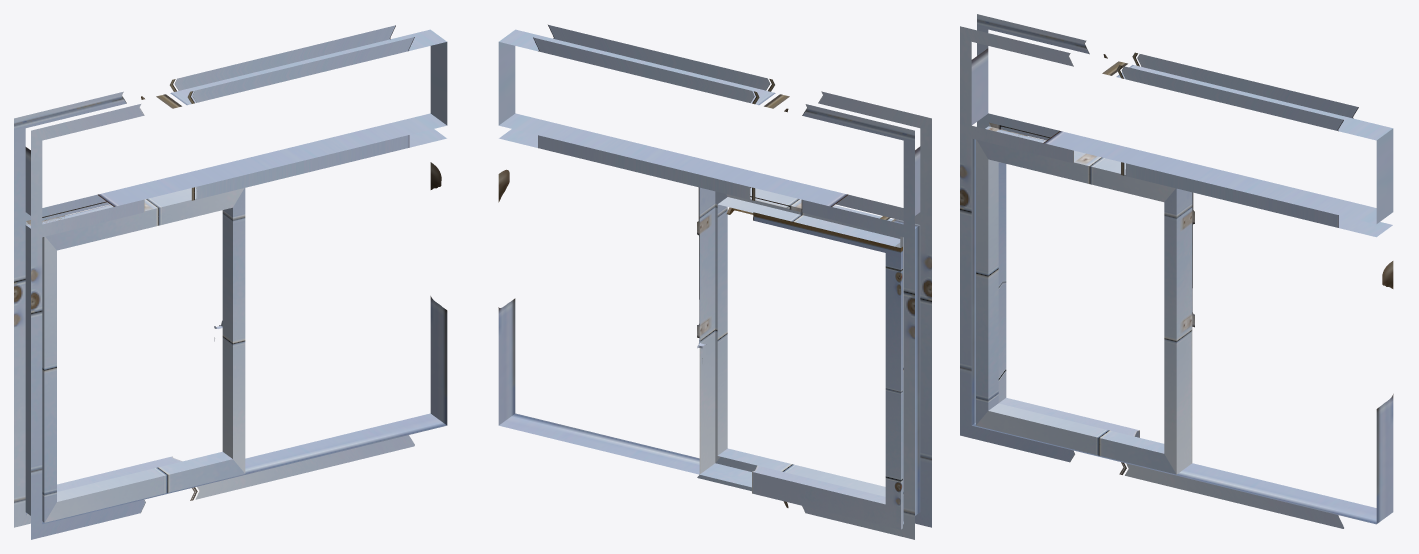
File: ventanaPequeManilla.fbx
3 renders of one model, left to right at view 1: azimuth 30°, elevation 25°; view 2: azimuth 150°, elevation 25°; view 3: azimuth 330°, elevation 25°, orthographic.
Parts seen in each view (by area): view 1: pasted__ventanaExterior43, pasted__ventanaAulaMarco; view 2: pasted__ventanaExterior43, pasted__ventanaAulaMarco; view 3: pasted__ventanaExterior43, pasted__ventanaAulaMarco.
Boxes of the visible parts, bbox=[...] form: pasted__ventanaExterior43: bbox=[14, 25, 447, 539]; pasted__ventanaAulaMarco: bbox=[26, 187, 245, 522]; pasted__ventanaExterior43: bbox=[498, 25, 931, 539]; pasted__ventanaAulaMarco: bbox=[697, 187, 903, 529]; pasted__ventanaExterior43: bbox=[960, 14, 1393, 528]; pasted__ventanaAulaMarco: bbox=[976, 122, 1194, 474].
Bounding box in the file's own units: 157 × 144 × 15.04.
Materials: 1 (1 with a texture image).
